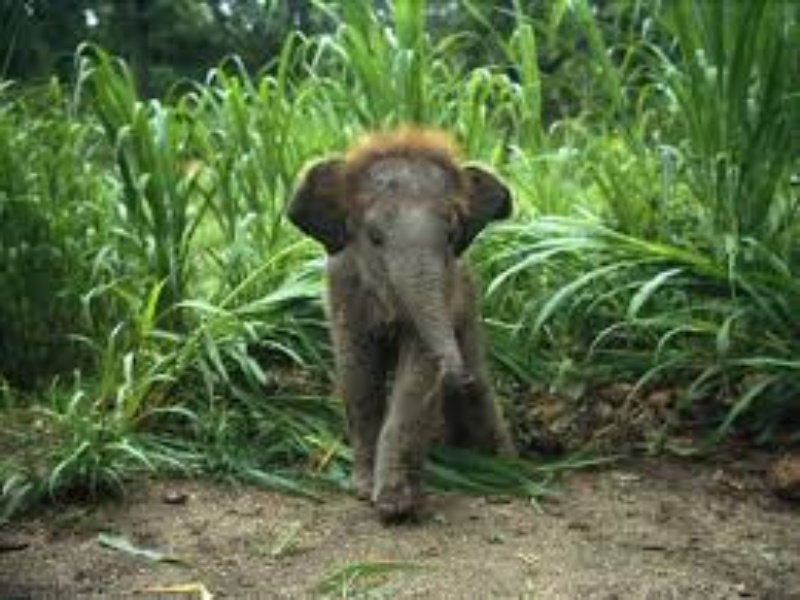elephant: (277, 130, 565, 523)
